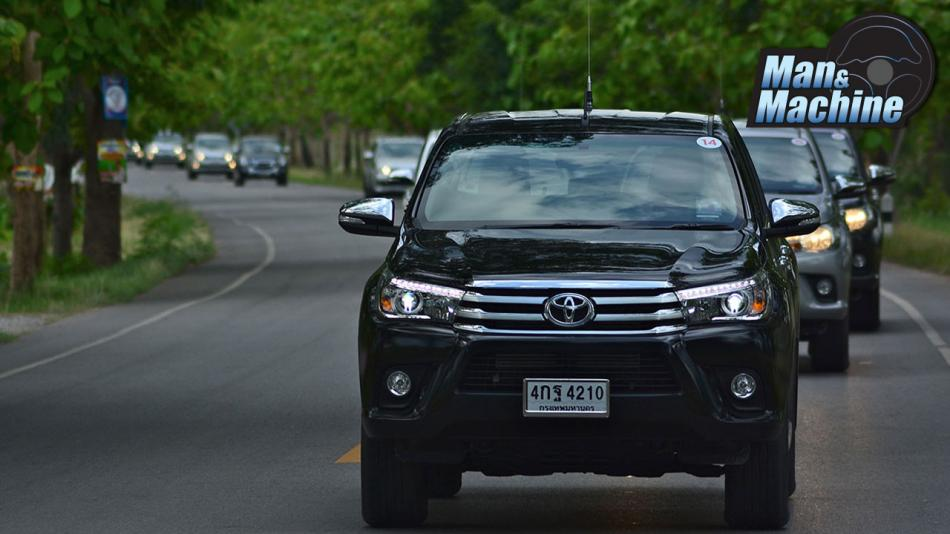pickup: (339, 96, 820, 529)
